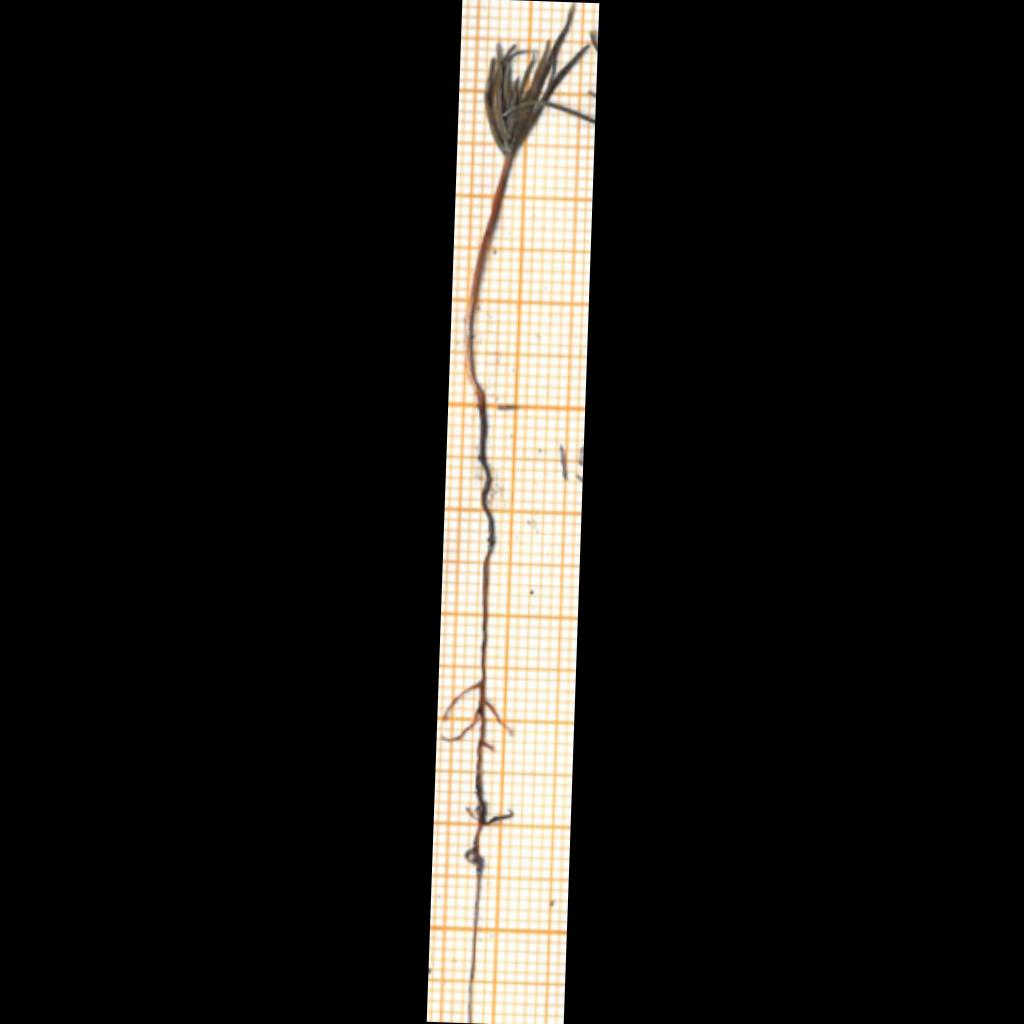flowerPinus: (485, 3, 594, 155)
rootPinus: (443, 412, 505, 1022)
stemPinus: (465, 154, 512, 410)
